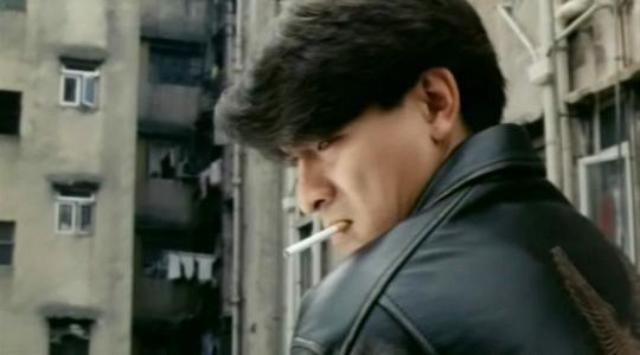Cigarette: (280, 223, 352, 259)
